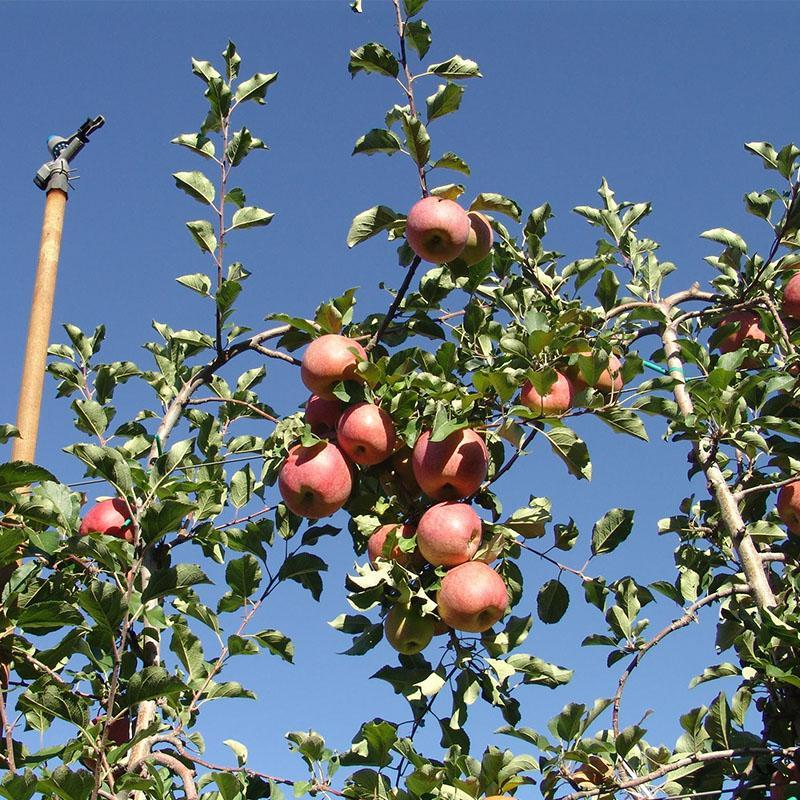apple: (409, 425, 489, 502), (275, 441, 353, 519), (436, 560, 510, 632), (403, 193, 469, 266), (416, 499, 483, 566), (299, 332, 365, 398), (334, 403, 396, 468), (78, 495, 134, 544), (383, 607, 434, 657), (521, 367, 570, 414), (304, 396, 345, 443)
